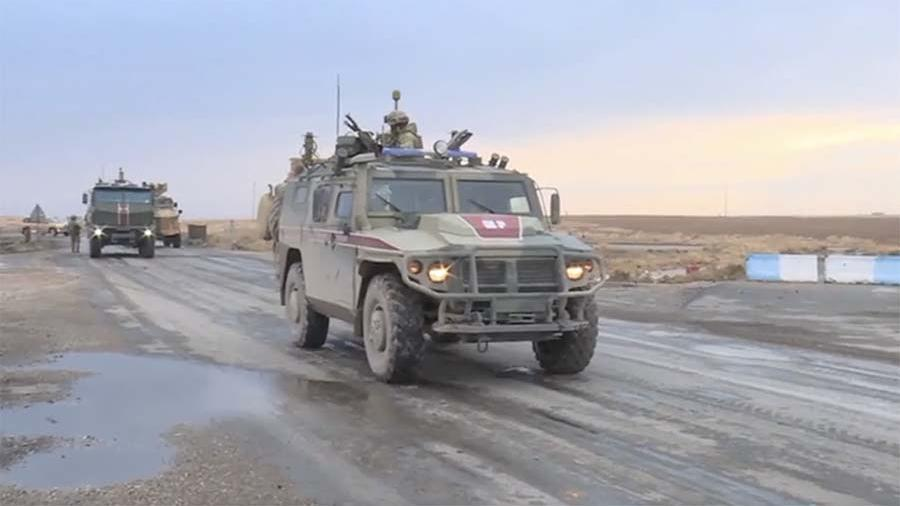armored_car: (276, 125, 604, 387)
person: (69, 214, 82, 254)
truck: (84, 169, 156, 261)
